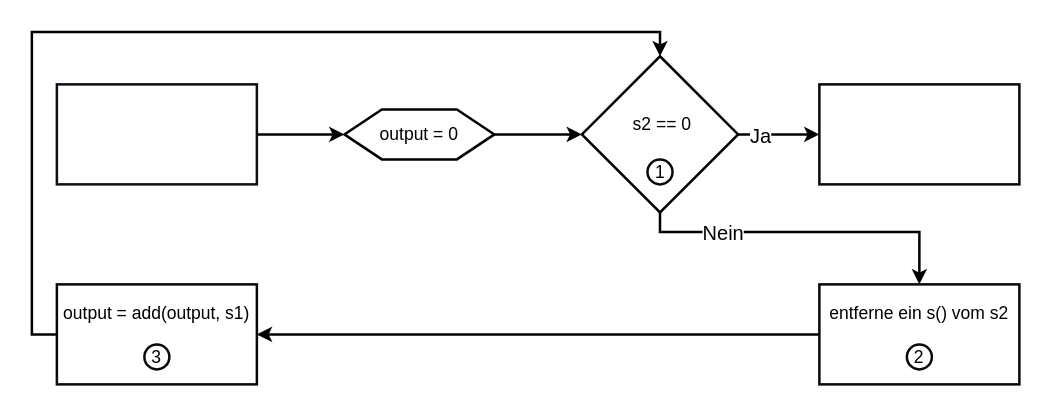
The diagram is 1041 pixels wide and 406 high, and some of its shapes have lost their labels. Each missing label, with the centre of its shape:
"gebe output zurück" belongs at point 919,133.
"mul(s1, s2, output)" belongs at point 156,133.
